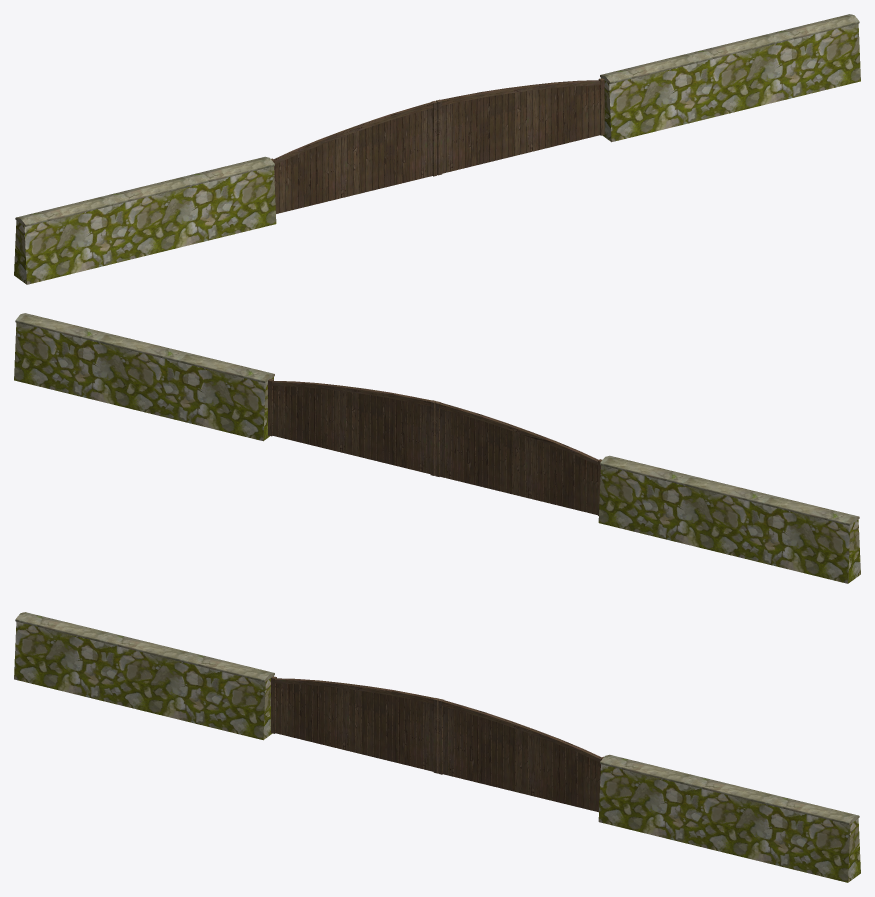
The model's file is Muro Pedra .fbx.
3 renders of one model, top to bottom at view 1: azimuth 30°, elevation 25°; view 2: azimuth 150°, elevation 25°; view 3: azimuth 330°, elevation 25°, orthographic.
Visible parts, largest first — view 1: Cube.013, Cube.008, Plane.004, Plane.003; view 2: Cube.013, Cube.008, Plane.004, Plane.003; view 3: Cube.008, Cube.013, Plane.003, Plane.004.
Part boxes in pixels (x1,y1,x2,y2): Cube.013: [14, 156, 276, 284]; Cube.008: [600, 14, 860, 142]; Plane.004: [436, 78, 604, 175]; Plane.003: [271, 101, 437, 213]; Cube.013: [598, 455, 860, 583]; Cube.008: [14, 313, 274, 441]; Plane.004: [268, 379, 436, 475]; Plane.003: [435, 401, 602, 515]; Cube.008: [598, 754, 860, 882]; Cube.013: [14, 612, 274, 740]; Plane.003: [271, 676, 439, 773]; Plane.004: [438, 699, 603, 812].
Size of the model in its own units: 2826 by 246 by 76.15.
